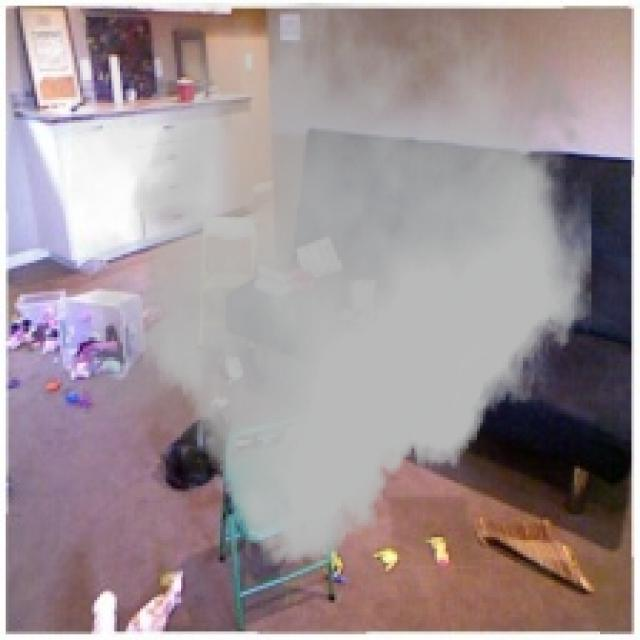smoke: (71, 3, 600, 566)
